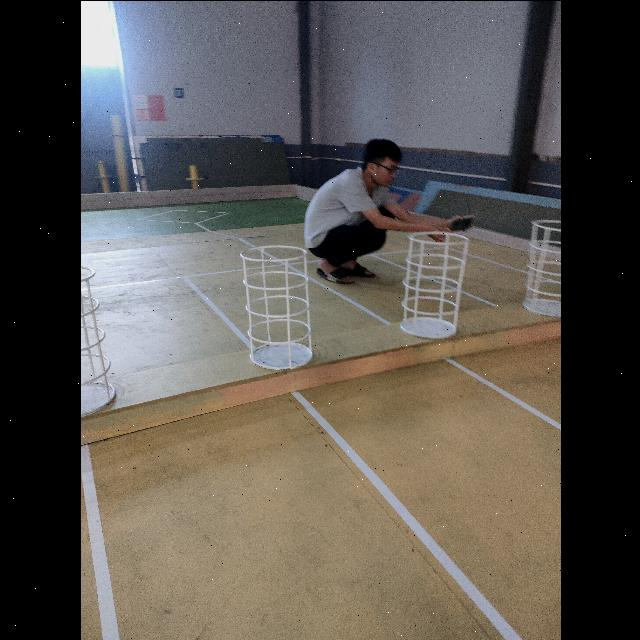S: (239, 243, 312, 369), (396, 229, 470, 339), (80, 263, 117, 417), (519, 219, 560, 317)
